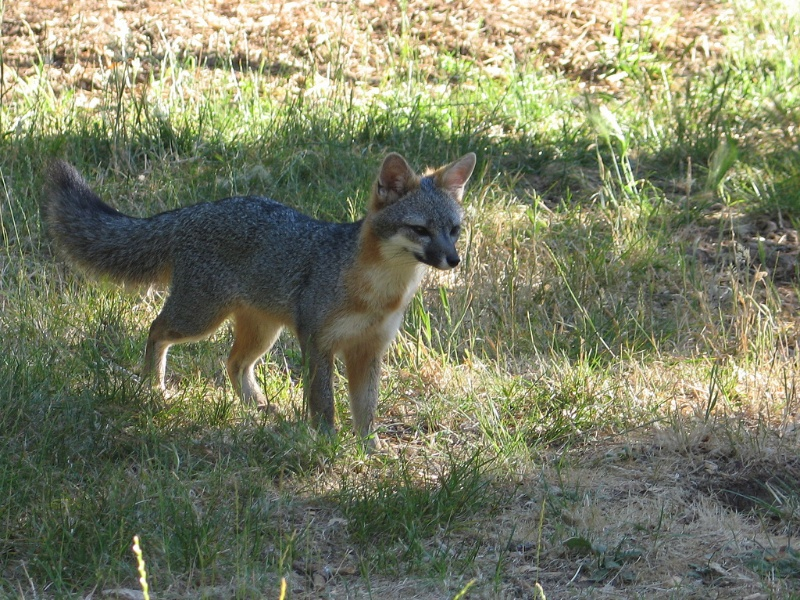fox: (30, 136, 497, 449)
